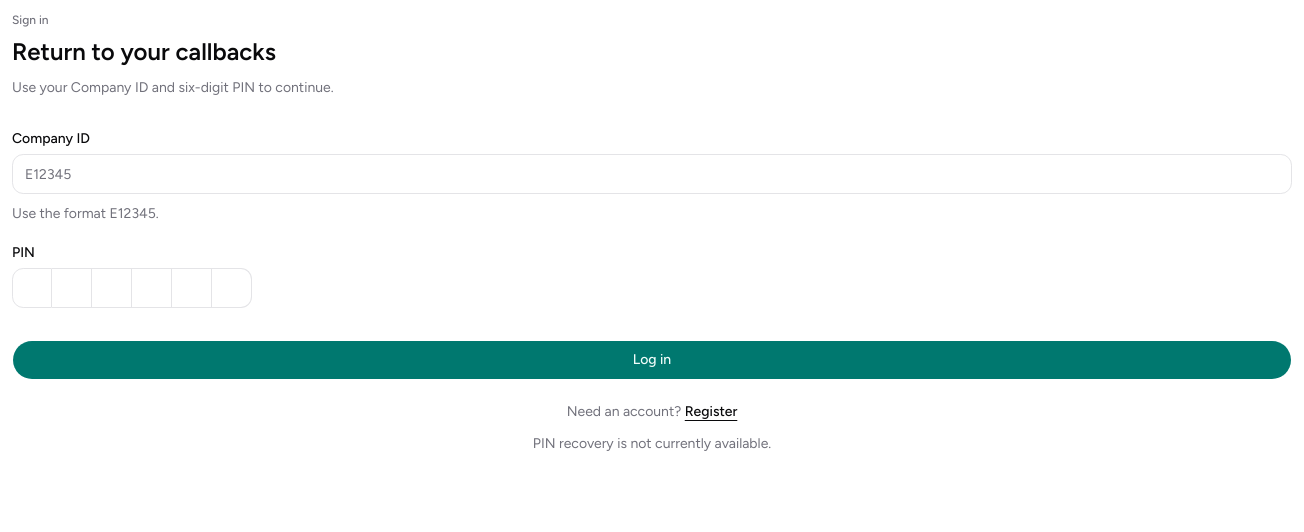
Test case: auth forms › shows accessible client validation without submitting empty credentials
Click the button "Log in".
click(652, 360)  # box [12,340,1292,380]
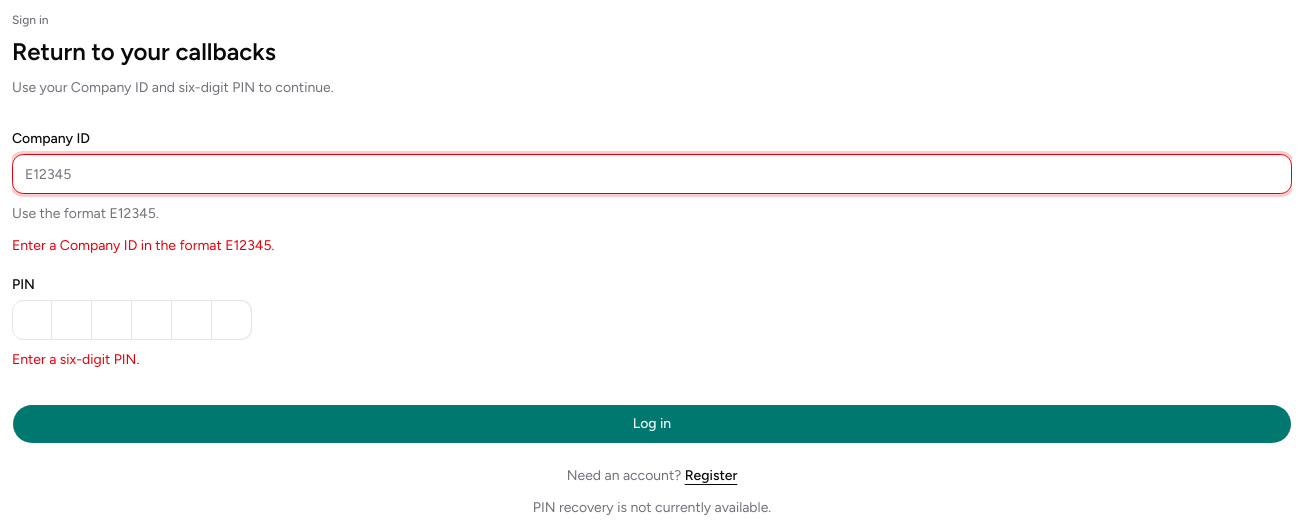
Check: the text "Enter a Company ID in the format E12345." is shown, box [12,237,274,254]
Check: the text "Enter a six-digit PIN." is shown, box [12,351,139,368]
Check: the number of messages is 2, box [12,237,274,254]; [12,351,139,368]
